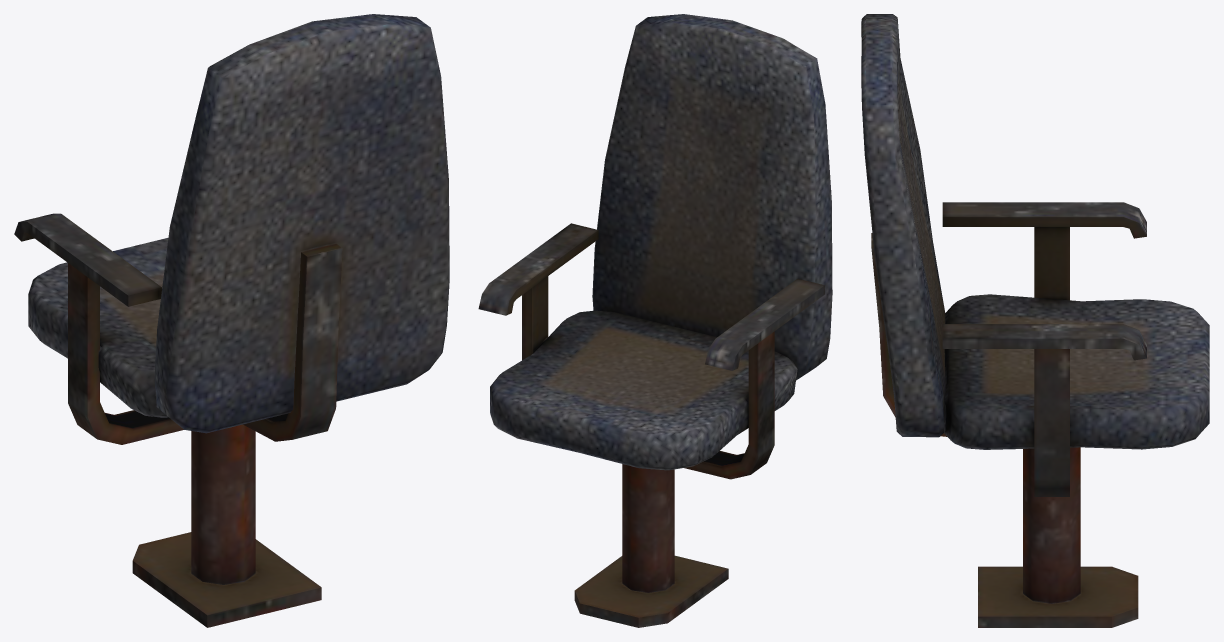
Rendered from AudiChair.FBX.
The picture shows the model from 3 angles, left to right: view 1: azimuth 30°, elevation 25°; view 2: azimuth 150°, elevation 25°; view 3: azimuth 270°, elevation 25°; orthographic projection. The views are drawn at different scales.
Visible parts, largest first — view 1: AudiChair; view 2: AudiChair; view 3: AudiChair.
Part boxes in pixels (x1,y1,x2,y2): AudiChair: (14, 14, 449, 627); AudiChair: (478, 14, 832, 627); AudiChair: (861, 14, 1209, 627).
Size of the model in its own units: 60.42 by 116 by 65.17.
